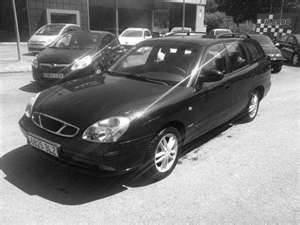car: (16, 31, 272, 181)
